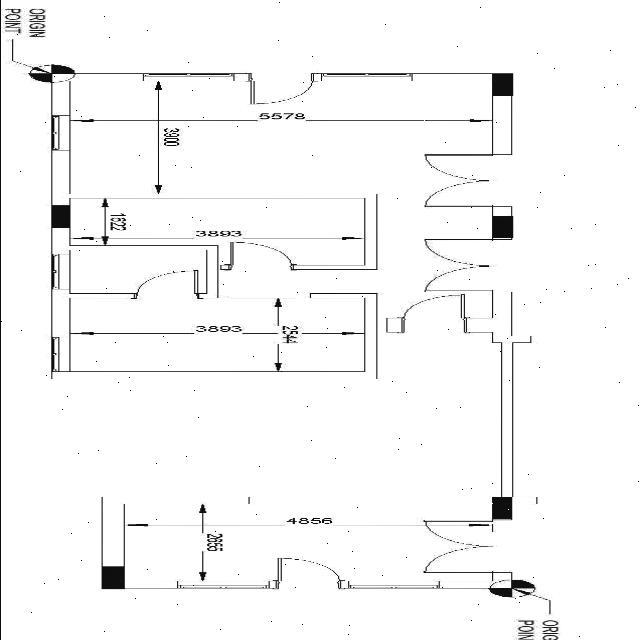Column: (99, 566, 125, 590), (489, 72, 514, 96), (488, 215, 514, 238), (48, 204, 72, 228), (490, 496, 512, 520)
Door: (395, 293, 473, 334), (120, 268, 204, 300), (244, 70, 315, 106), (222, 240, 298, 272), (266, 552, 342, 584)
Double-Door: (413, 149, 507, 210), (415, 240, 507, 294), (420, 518, 496, 574)
Window: (344, 579, 444, 590), (170, 580, 280, 590), (318, 72, 416, 82), (140, 72, 237, 82), (46, 253, 72, 290), (48, 114, 70, 152), (49, 336, 71, 372)
